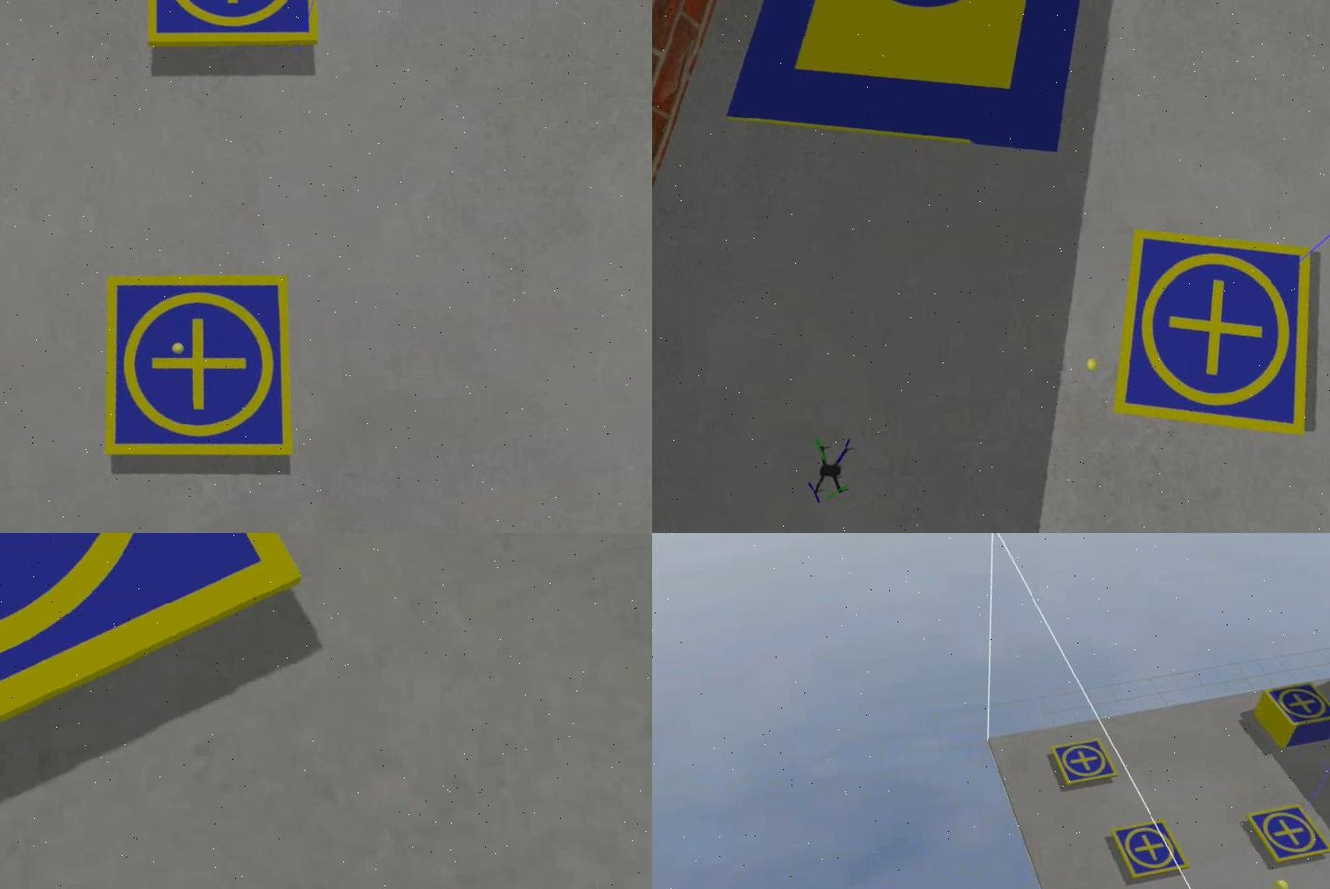large_base: (687, 1, 1153, 188)
small_base: (0, 534, 323, 848), (1093, 212, 1328, 458), (84, 260, 303, 480), (137, 1, 326, 64), (1103, 819, 1187, 886), (1242, 804, 1328, 864), (1046, 735, 1120, 790), (1263, 679, 1328, 730)
